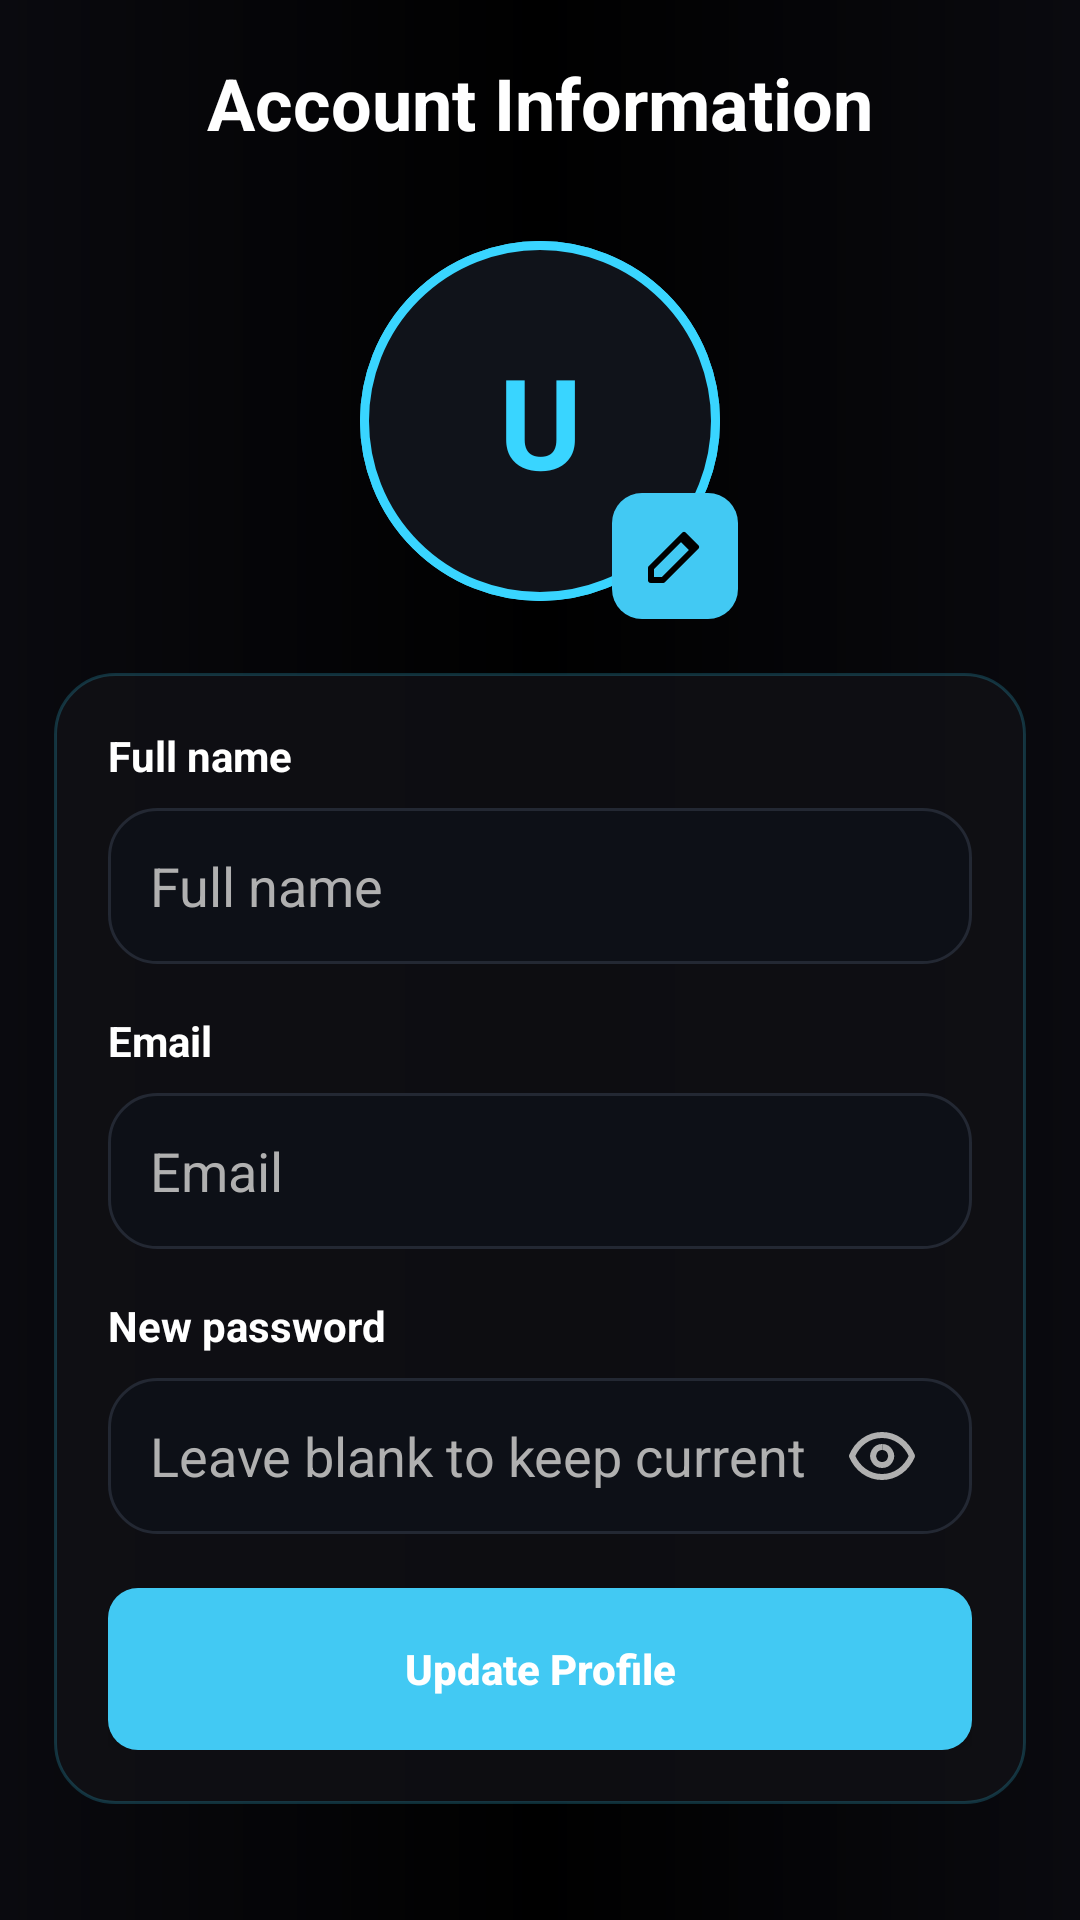

Icons on this 1080px x 1920px Android screen, each with its box as bbox=(x1, y1, x2, y2):
Change profile photo: bbox=(612, 493, 738, 619)
Show or hide password: bbox=(849, 1432, 915, 1480)
